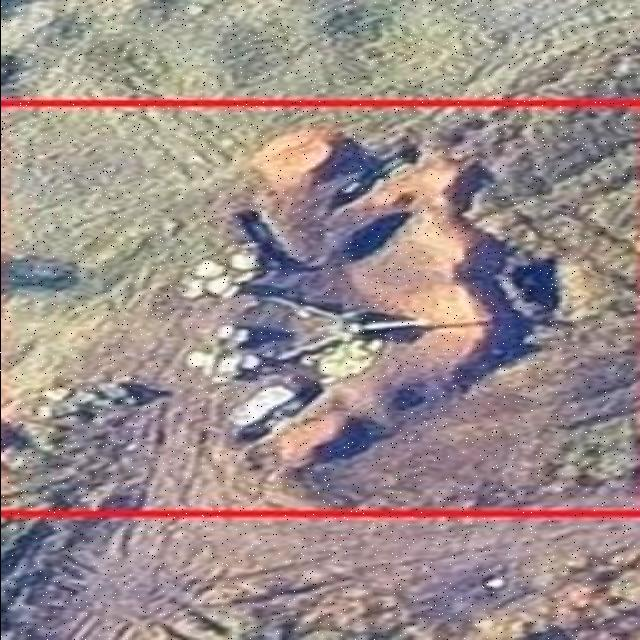ART: (249, 292, 438, 366)
